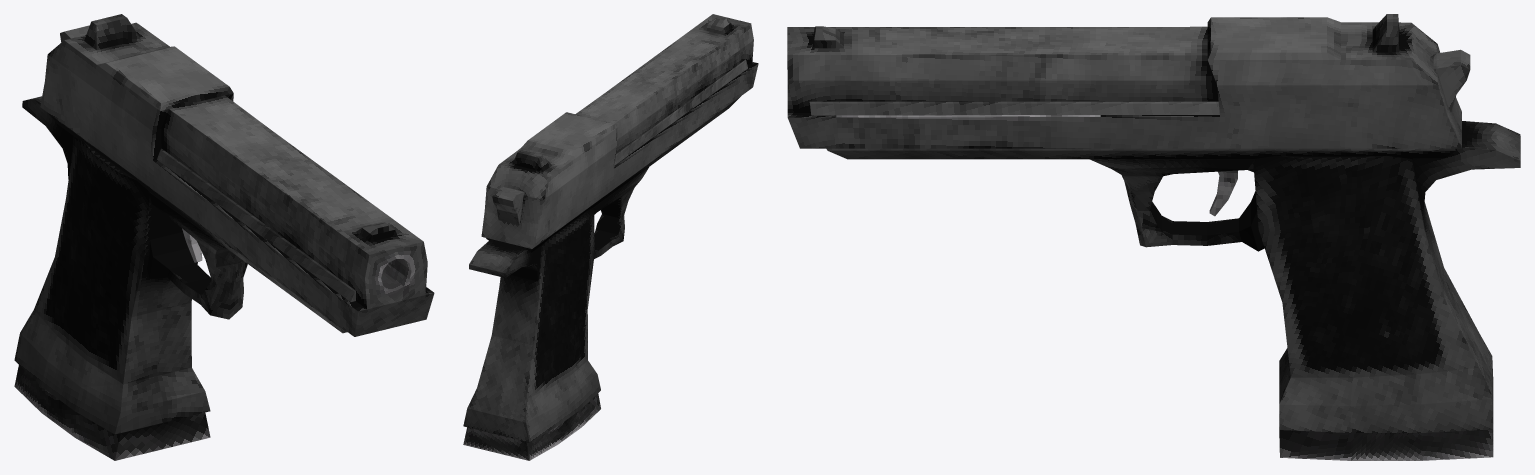
File: DesertEagle.glb
The picture shows the model from 3 angles, left to right: view 1: azimuth 30°, elevation 25°; view 2: azimuth 150°, elevation 25°; view 3: azimuth 270°, elevation 25°; orthographic projection. The views are drawn at different scales.
Parts seen in each view (by area): view 1: Cube.005, Cube_008, Cube.006, Cube.007, Cube.003, Cube.002; view 2: Cube.005, Cube_008, Cube.007, Cube.003, Cube.002, Cube.006, Cube.001; view 3: Cube.005, Cube_008, Cube.003, Cube.006, Cube.007, Cube.002, Cube.001.
Boxes of the visible parts, <box> form: Cube.005: <box>40,14,434,336</box>; Cube_008: <box>14,137,210,434</box>; Cube.006: <box>147,191,247,319</box>; Cube.007: <box>14,365,210,460</box>; Cube.003: <box>47,112,355,333</box>; Cube.002: <box>22,96,74,179</box>; Cube.005: <box>481,14,758,248</box>; Cube_008: <box>463,207,600,442</box>; Cube.007: <box>463,393,600,460</box>; Cube.003: <box>486,59,747,252</box>; Cube.002: <box>469,239,541,281</box>; Cube.006: <box>594,167,648,258</box>; Cube.001: <box>492,187,524,224</box>; Cube.005: <box>787,14,1461,148</box>; Cube_008: <box>1253,156,1493,433</box>; Cube.003: <box>809,101,1455,159</box>; Cube.006: <box>1089,159,1264,251</box>; Cube.007: <box>1279,414,1493,460</box>; Cube.002: <box>1413,121,1520,208</box>; Cube.001: <box>1433,49,1470,112</box>.
Size of the model in its own units: 0.1476 by 0.5099 by 0.8241.
Materials: 1 (1 with a texture image).
